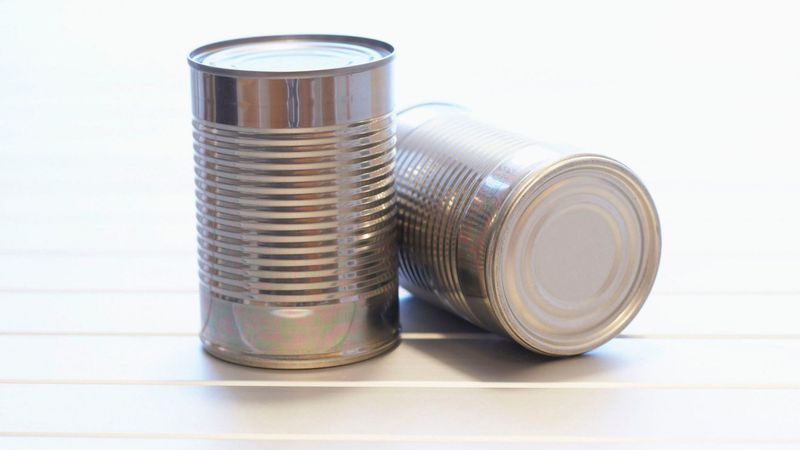metal: (185, 28, 663, 375)
